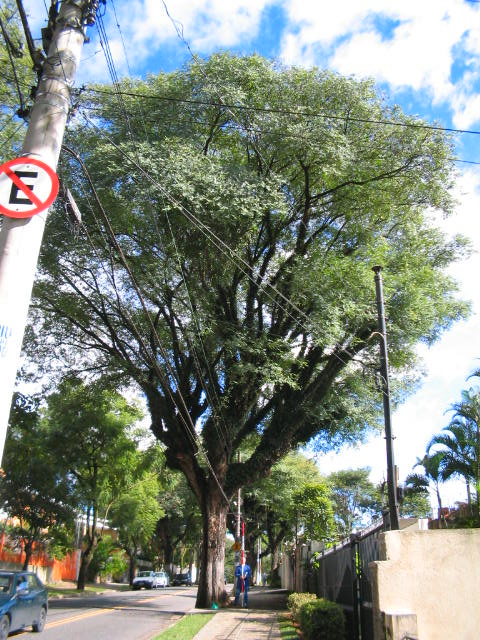crown: (25, 51, 473, 420)
stem: (185, 489, 237, 610)
stick: (237, 522, 249, 608)
tree: (22, 49, 475, 609)
